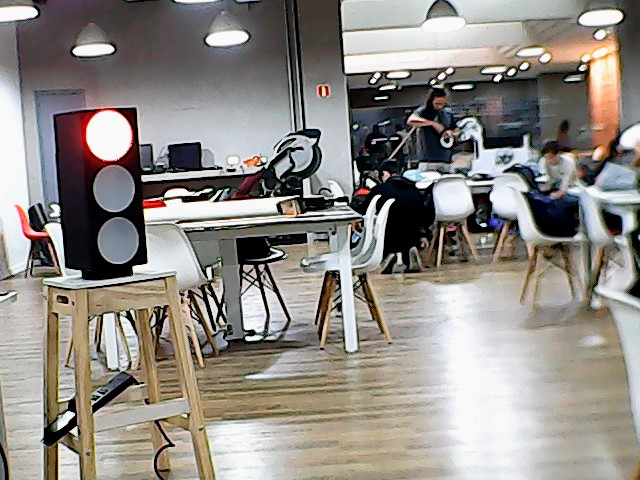vermelho: (48, 106, 154, 269)
